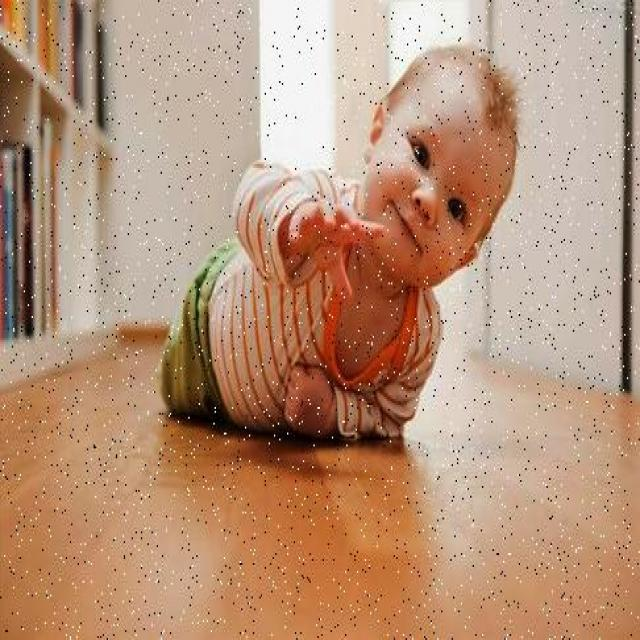fall: (174, 58, 522, 444)
